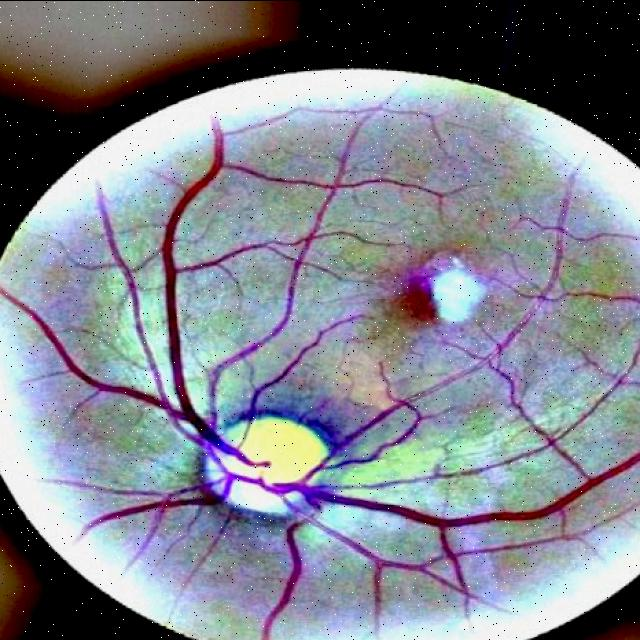Macula: (397, 253, 486, 321)
Nerves: (0, 104, 640, 640)
Optic Disk: (203, 412, 334, 515)
